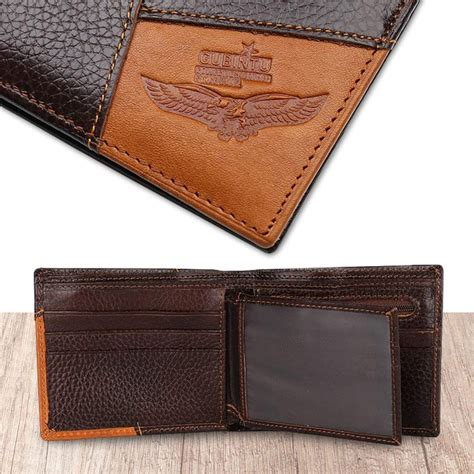cuero: (1, 1, 444, 444)
